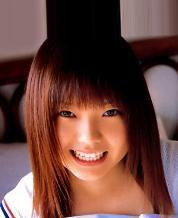face: (56, 106, 118, 166)
